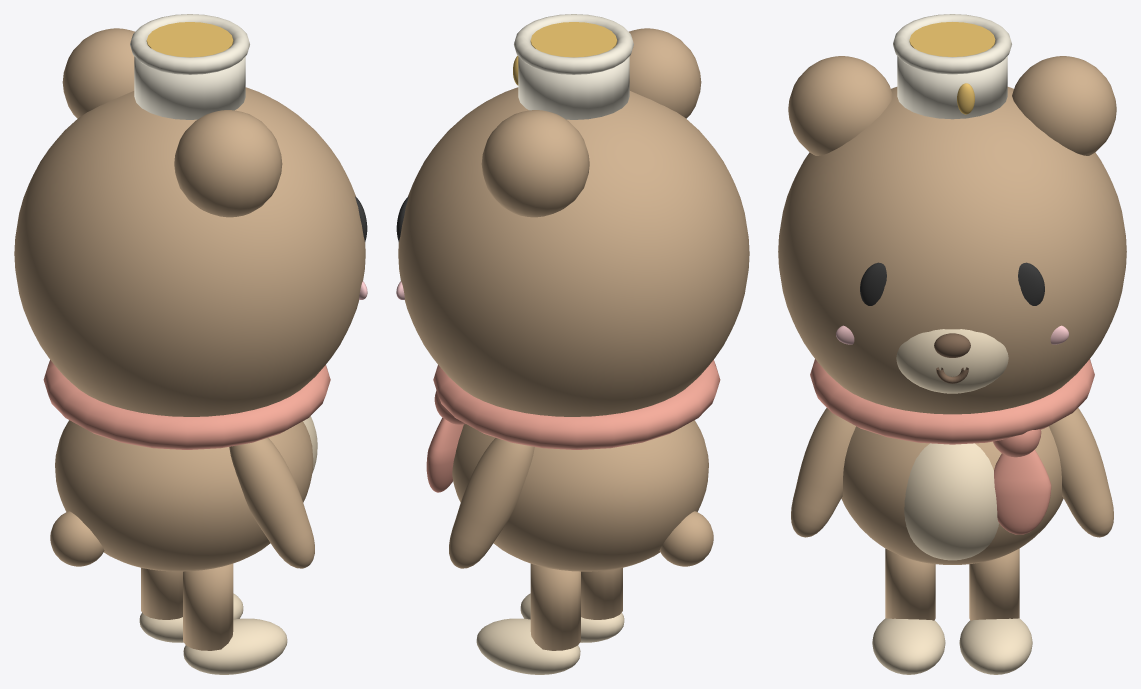
Rendered from character.glb.
The picture shows the model from 3 angles, left to right: view 1: azimuth 30°, elevation 25°; view 2: azimuth 150°, elevation 25°; view 3: azimuth 270°, elevation 25°; orthographic projection.
Visible parts, largest first — view 1: BearCharacter; view 2: BearCharacter; view 3: BearCharacter.
Boxes of the visible parts, left/top/right/bottom form: BearCharacter: left=14, top=14, right=367, bottom=674; BearCharacter: left=396, top=14, right=749, bottom=674; BearCharacter: left=778, top=14, right=1126, bottom=674.
Bounding box in the file's own units: 1.1 × 2.03 × 1.04.
